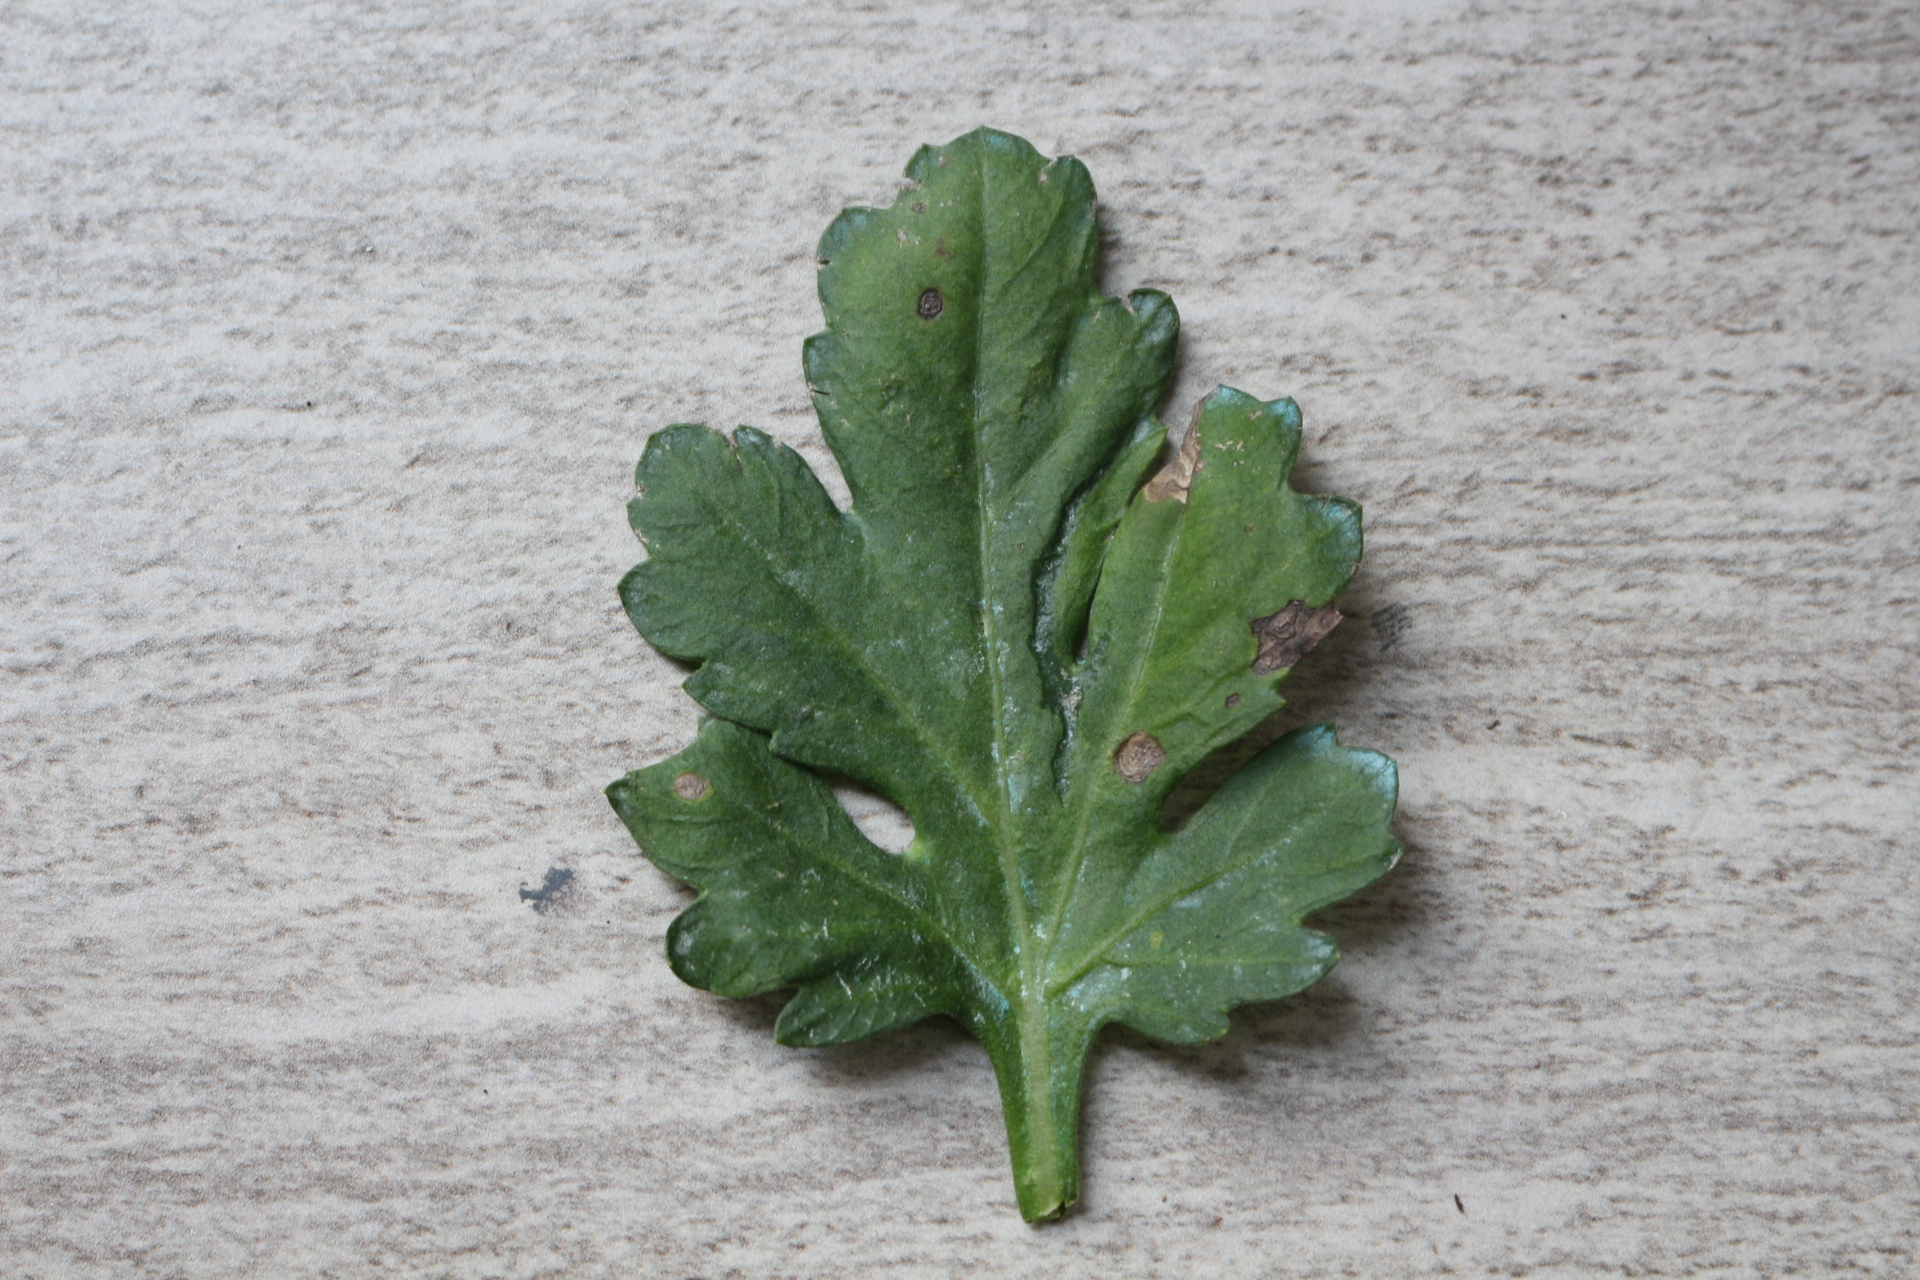namden: (1109, 729, 1171, 791), (667, 766, 719, 811), (906, 281, 951, 324)
